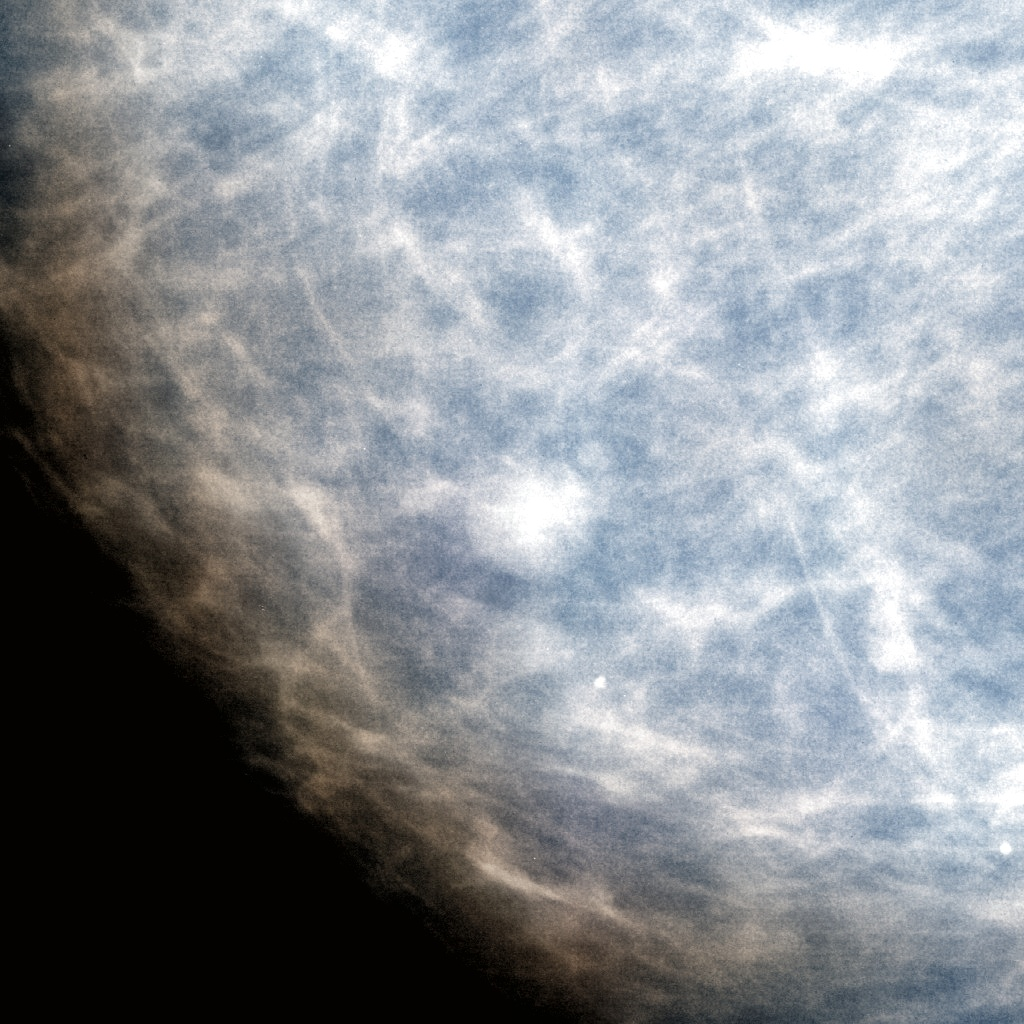tumor: (407, 440, 617, 584)
